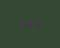five: (33, 20, 39, 28)
nine: (18, 19, 24, 27)
six: (26, 19, 32, 28)
